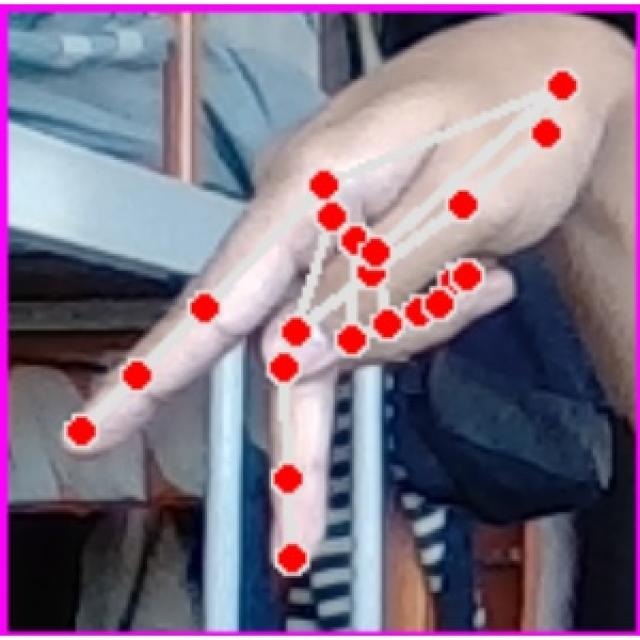P: (51, 17, 615, 596)
